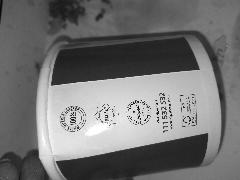paper: (37, 34, 222, 180)
